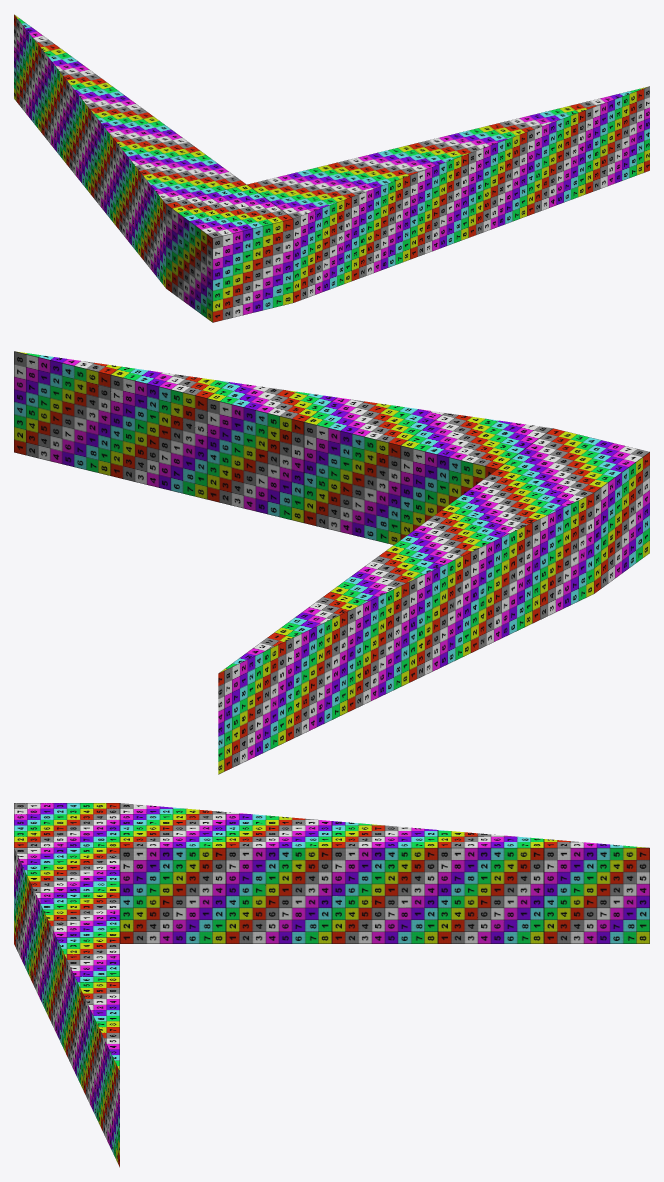
Rendered from garagenrampe4.glb.
The picture shows the model from 3 angles, top to bottom: view 1: azimuth 30°, elevation 25°; view 2: azimuth 150°, elevation 25°; view 3: azimuth 270°, elevation 25°; orthographic projection. The views are drawn at different scales.
Parts seen in each view (by area): view 1: oneX, oneY, Cube; view 2: oneX, oneY, Cube; view 3: oneY, oneX, Cube.
Part boxes in pixels (bbox=[...]): oneX: bbox=[168, 86, 649, 302]; oneY: bbox=[14, 14, 291, 287]; Cube: bbox=[166, 185, 293, 322]; oneX: bbox=[14, 351, 646, 544]; oneY: bbox=[218, 429, 648, 774]; Cube: bbox=[498, 428, 649, 593]; oneY: bbox=[14, 803, 649, 943]; oneX: bbox=[14, 803, 119, 1167]; Cube: bbox=[14, 803, 119, 847].
Size of the model in its own units: 6 by 1 by 6.
1 material, 1 textured.
